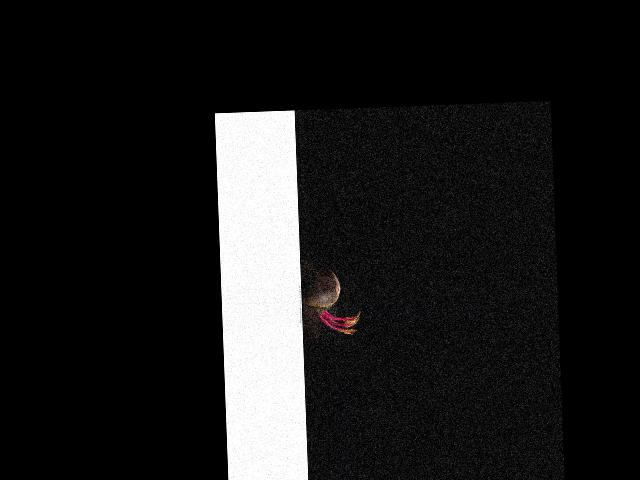beet: (300, 255, 361, 336)
